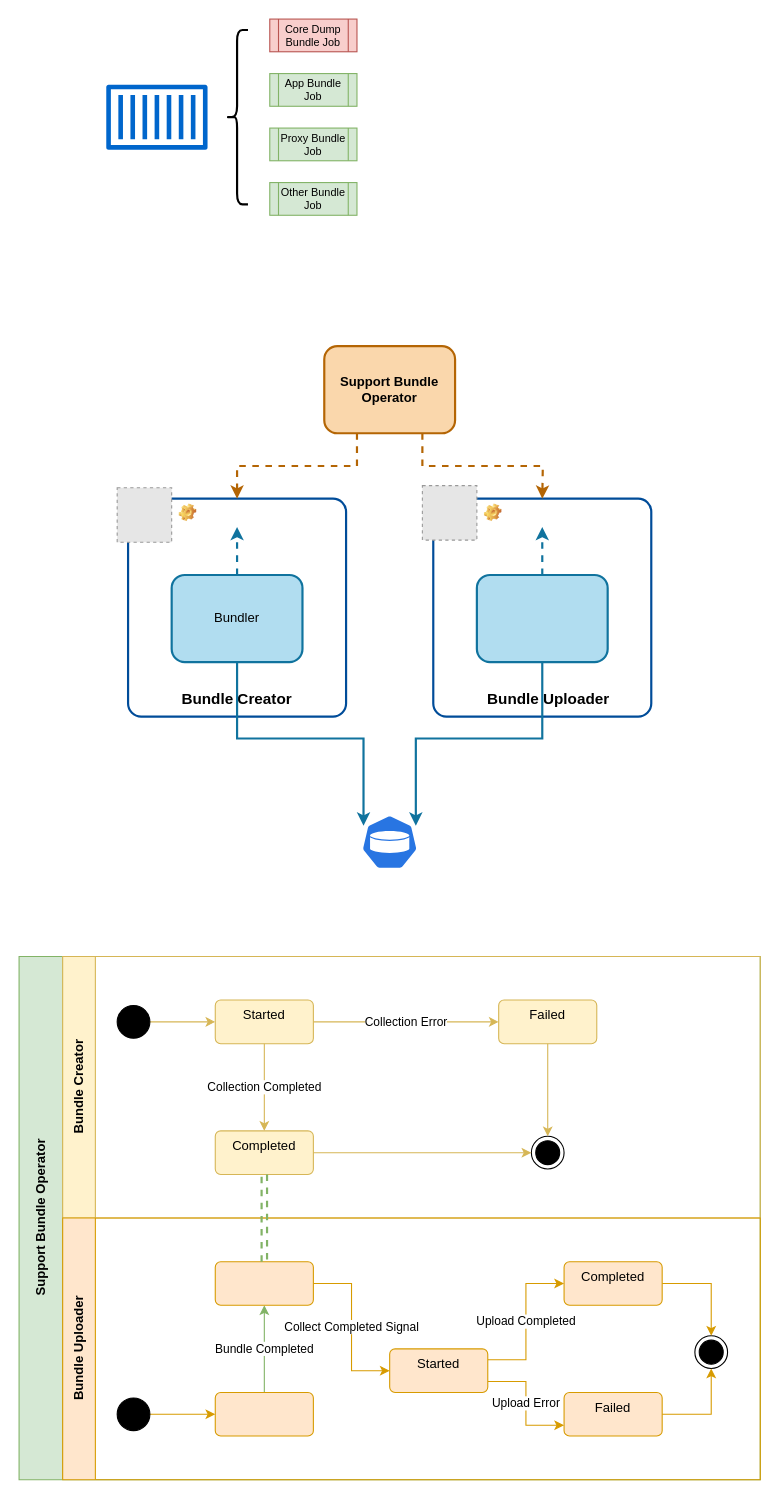
The diagram is 779 pixels wide and 1499 high, and some of its shapes have lost their labels. Grey dashed boxes stand in for pictures. Each missing label, with the centre of its shape:
"BundlerStatus" belongs at [236,512].
"Collect Complete" belongs at [263,1283].
"PPDM Bundler Image" belongs at [156,116].
"Support Bundler PV" belongs at [389,841].
"Uploader" belongs at [541,618].
"UploaderStatus" belongs at [541,512].
"Waiting" belongs at [263,1413].
